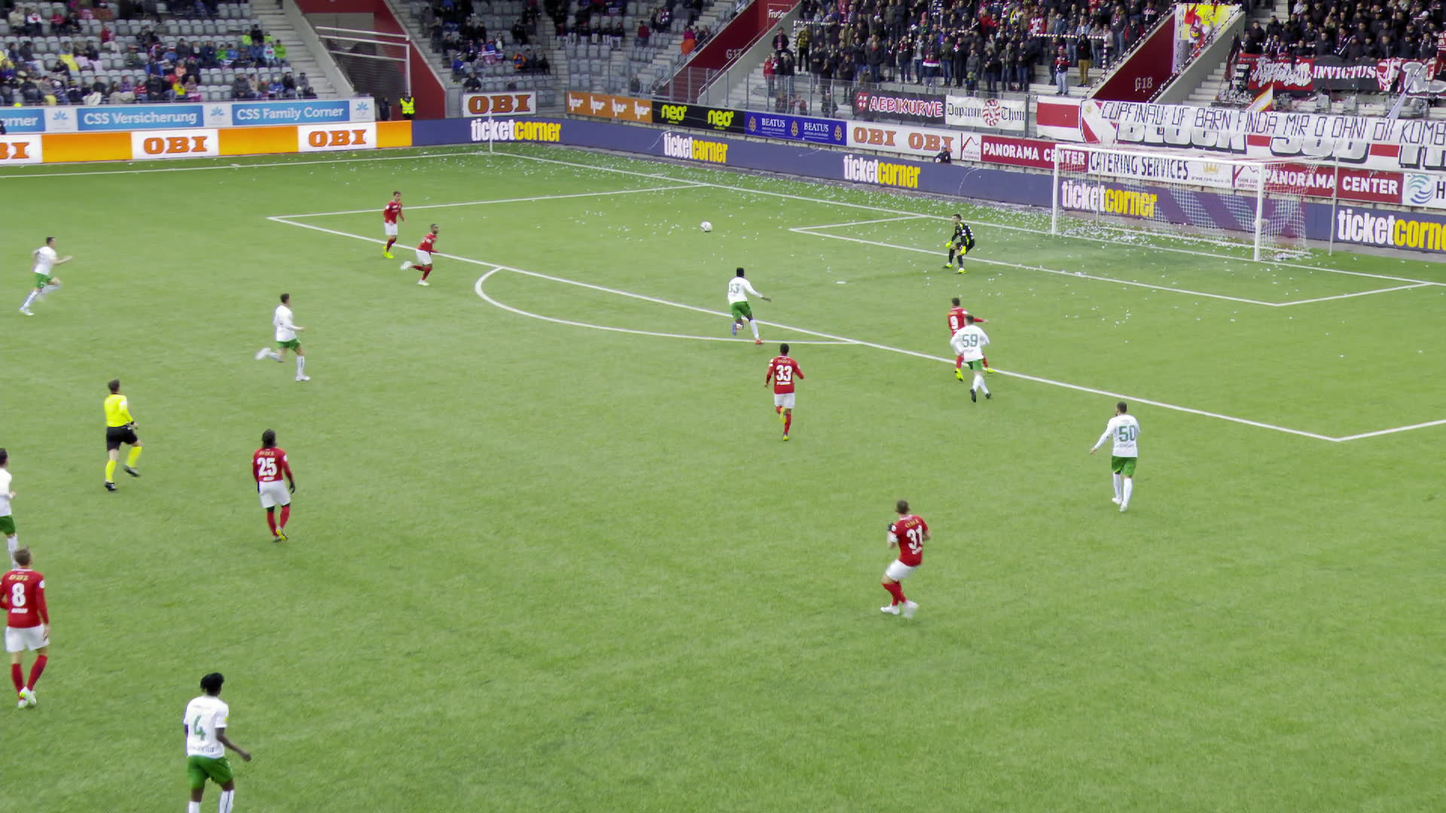ball: (703, 223, 715, 234)
player: (177, 670, 259, 812), (0, 547, 53, 707), (865, 495, 929, 617), (249, 428, 297, 547), (1090, 400, 1139, 512), (256, 290, 313, 381), (945, 311, 991, 405), (766, 338, 804, 443), (940, 297, 987, 380), (18, 233, 65, 314), (726, 265, 768, 343), (390, 220, 439, 283), (0, 446, 21, 570), (942, 212, 976, 274), (380, 189, 410, 259)
referee: (102, 379, 145, 492)
